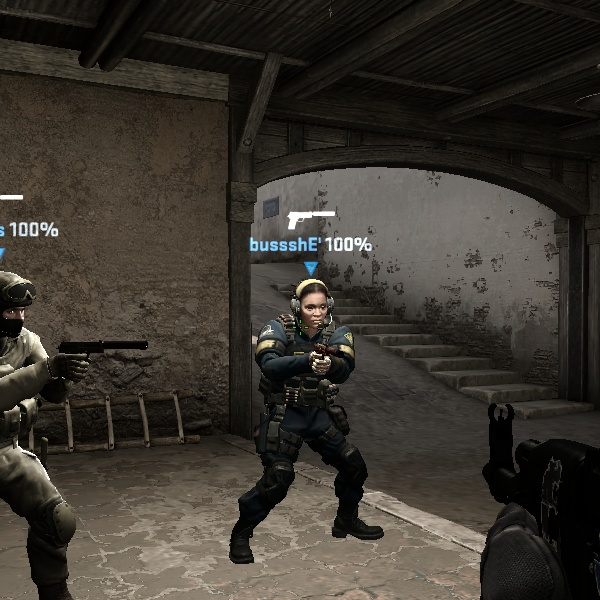ct_body: (222, 274, 394, 566), (1, 269, 103, 584)
ct_head: (281, 272, 351, 343), (1, 274, 42, 342)
